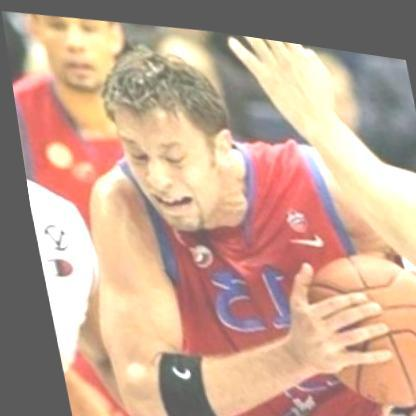basketball: (271, 220, 416, 416)
